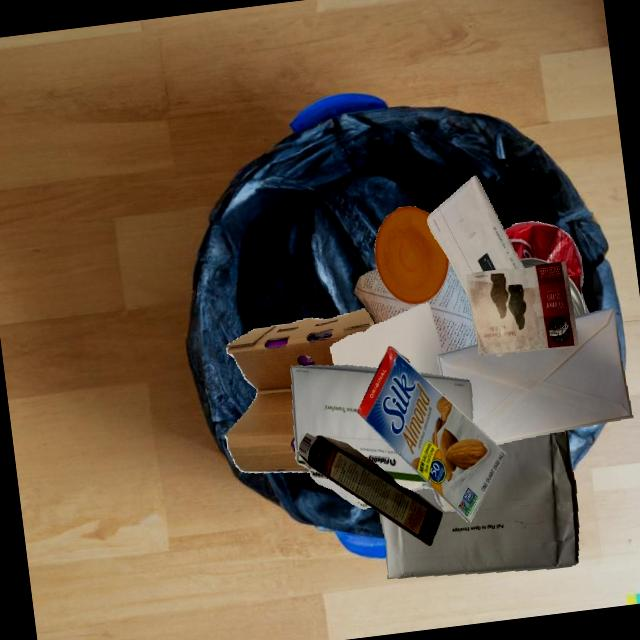cardboard: (357, 346, 506, 522), (225, 308, 375, 472), (296, 432, 442, 546)
metal: (504, 220, 590, 316)
paper: (379, 430, 578, 578), (437, 308, 632, 444), (290, 365, 455, 511), (427, 175, 524, 299), (466, 261, 578, 355), (330, 301, 442, 375), (426, 260, 477, 352), (353, 268, 420, 324)
plastic: (374, 206, 449, 305)
